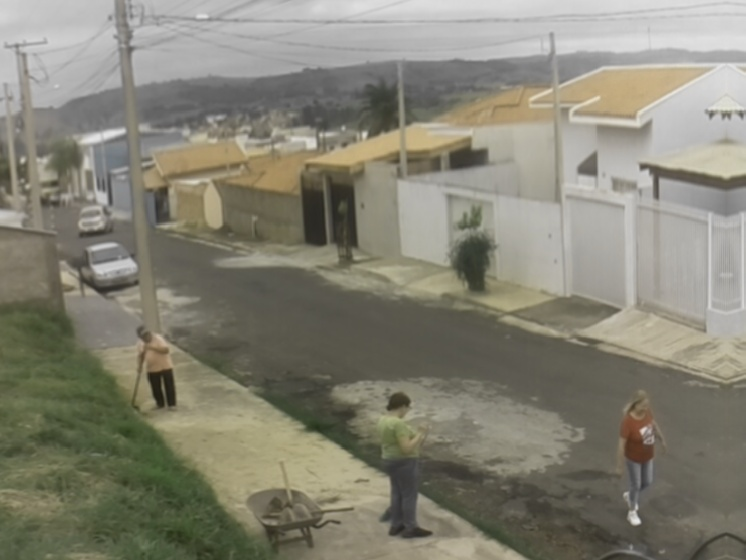person: (377, 392, 436, 540), (615, 389, 671, 527), (135, 325, 180, 412)
